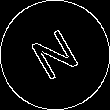N_SE: (25, 23, 85, 87)
